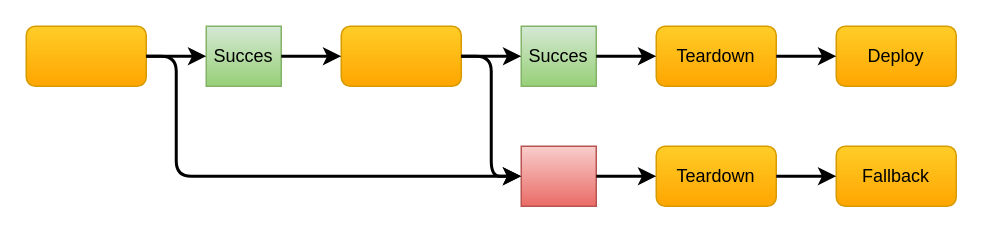
Some shapes in this 983 by 233 pixel diagram are drawn without their labels. The centre of each missing label's shape, as x and y in pixels:
Fail: [558,175]
Test: [85,55]
Test deploy: [400,55]
